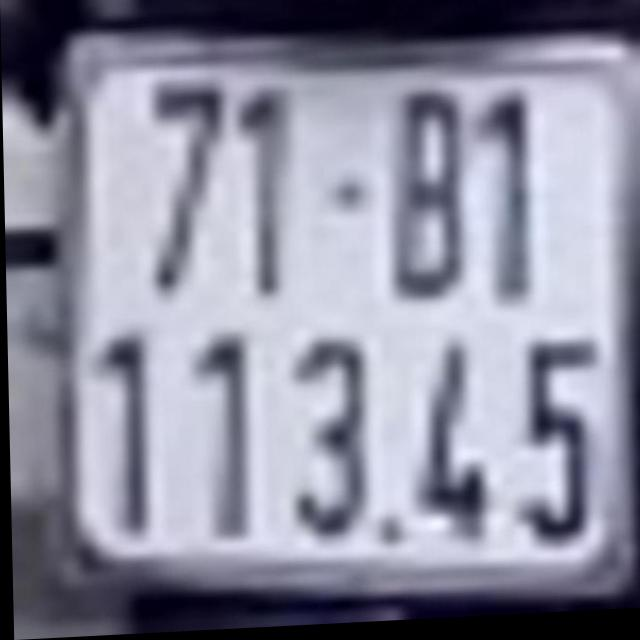1: (193, 329, 257, 549), (93, 326, 158, 538), (476, 86, 535, 308), (238, 79, 290, 297)
3: (290, 332, 377, 547)
4: (415, 335, 493, 551)
5: (519, 321, 601, 548)
7: (138, 78, 230, 298)
B: (389, 90, 461, 310)
